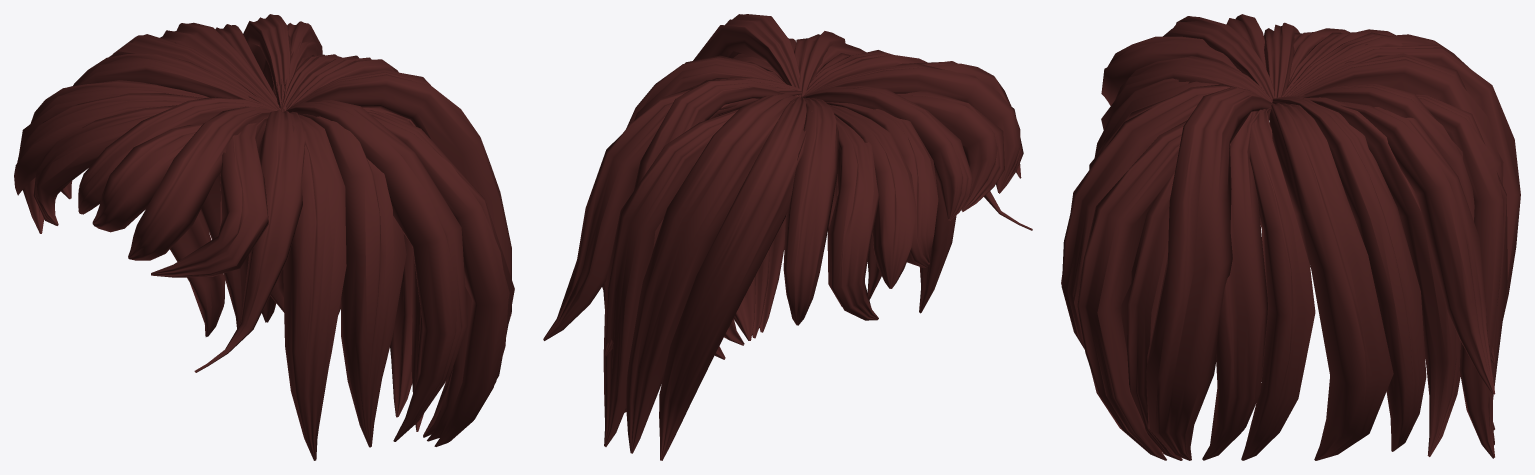
The model's file is Hair.fbx.
The picture shows the model from 3 angles, left to right: view 1: azimuth 30°, elevation 25°; view 2: azimuth 150°, elevation 25°; view 3: azimuth 270°, elevation 25°; orthographic projection. The views are drawn at different scales.
Parts seen in each view (by area): view 1: Character_Base.001; view 2: Character_Base.001; view 3: Character_Base.001.
Part boxes in pixels (bbox=[...]): Character_Base.001: bbox=[14, 14, 514, 460]; Character_Base.001: bbox=[543, 14, 1032, 460]; Character_Base.001: bbox=[1061, 14, 1520, 460].
Bounding box in the file's own units: 248 × 230 × 272.
